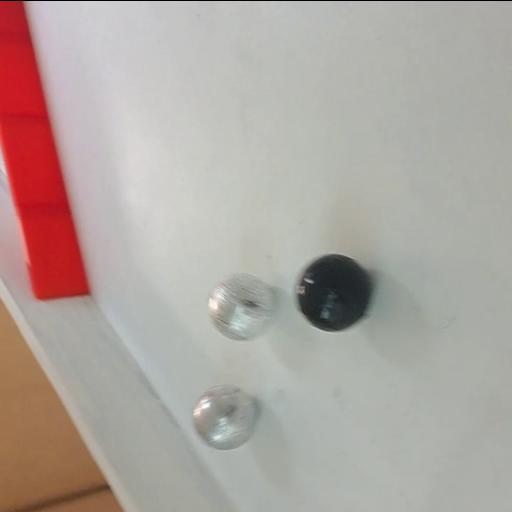alive: (206, 268, 278, 343), (190, 380, 260, 452)
dead: (290, 250, 374, 334)
